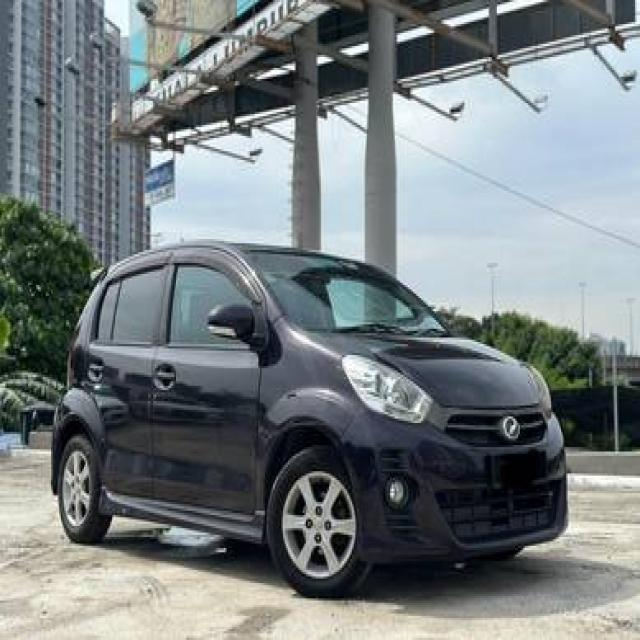PeroduaMyvi: (48, 234, 570, 598)
